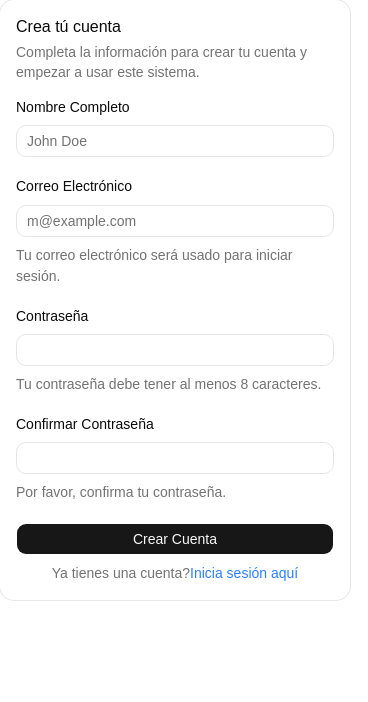
Test: SignupForm › muestra errores cuando los campos están vacíos
Click the button "Crear Cuenta" at (175, 539), box [16,523,334,555]
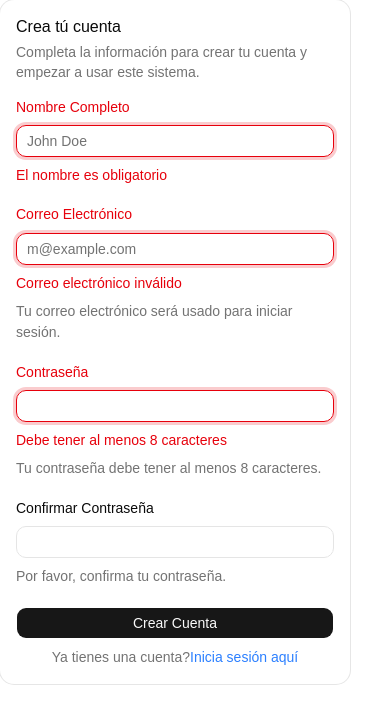
Expected: the text "El nombre es obligatorio" is shown, [16,167,167,183]
Expected: the text "Correo electrónico inválido" is shown, [16,274,182,290]
Expected: the text "Debe tener al menos 8 caracteres" is shown, [16,432,227,448]
